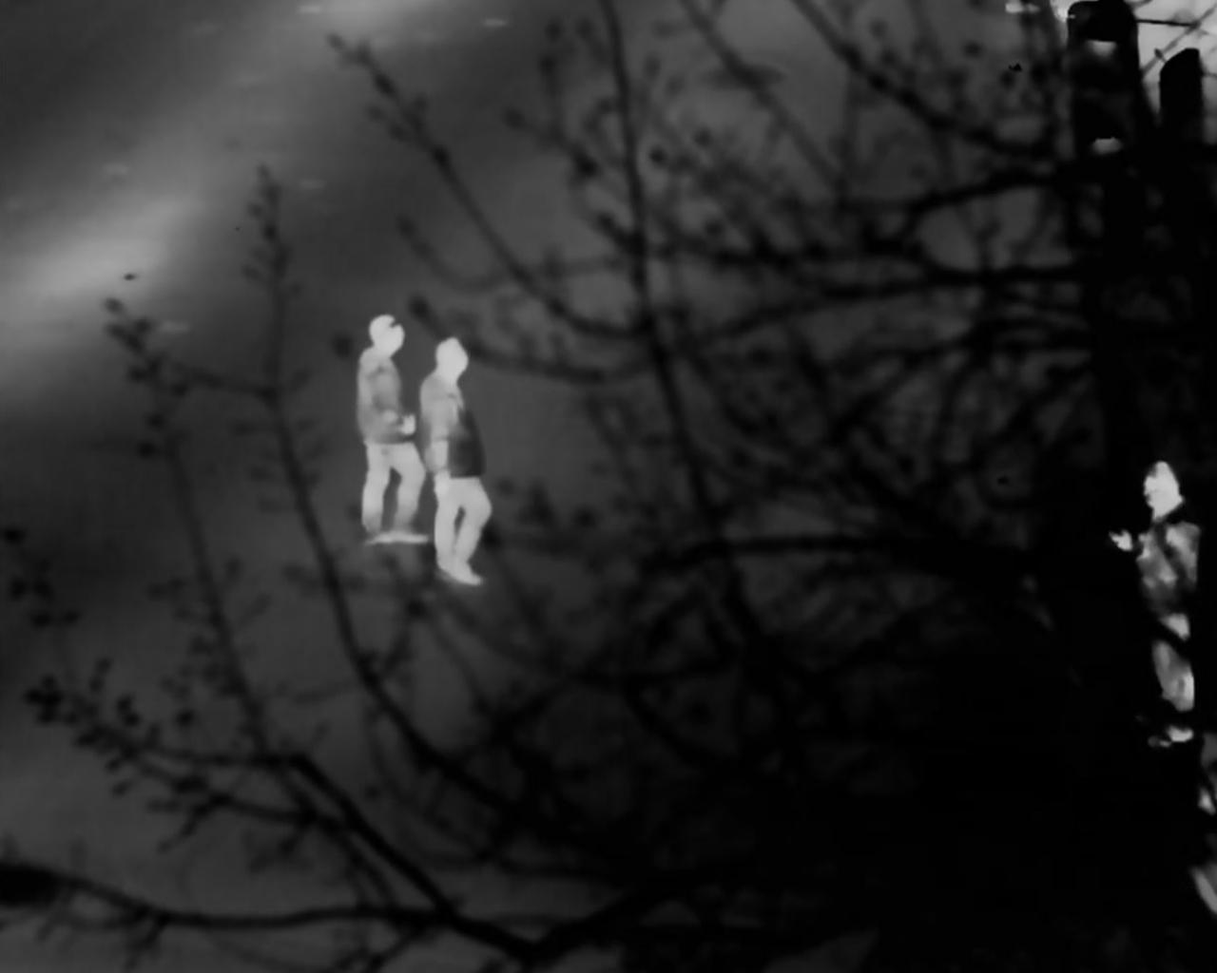person: (1123, 464, 1207, 744), (415, 341, 498, 570), (360, 311, 425, 537)
